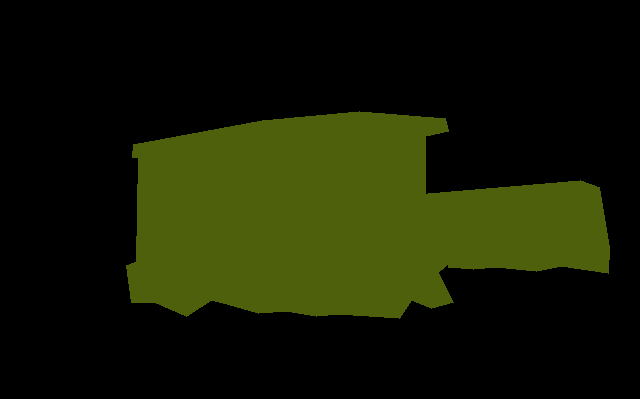Train: (126, 111, 454, 319), (428, 180, 610, 273)
